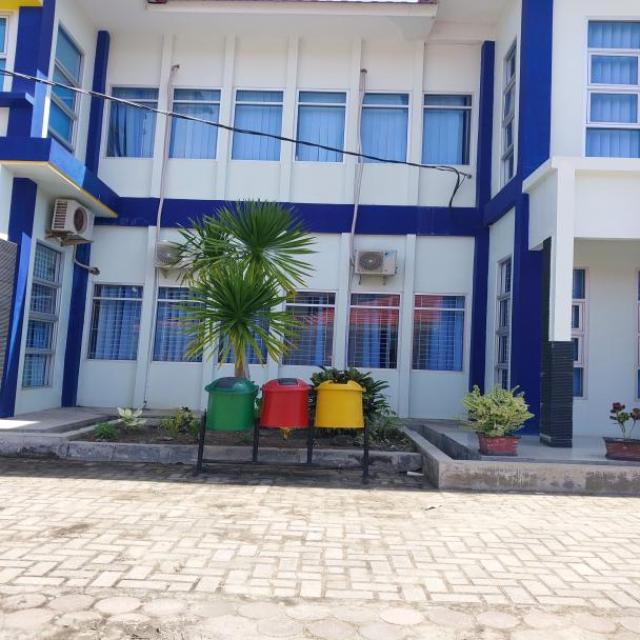dustbin ahead at: (190, 364, 381, 443)
plant ahead at: (457, 380, 533, 460)
